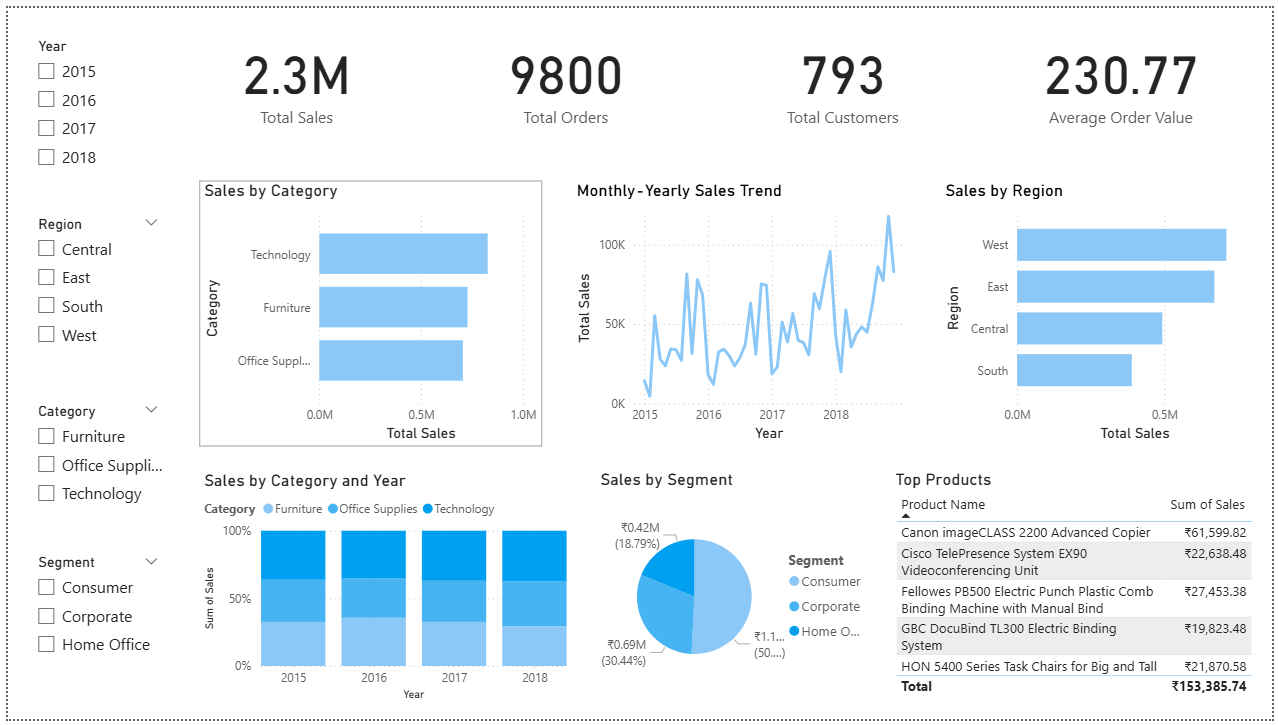

What the dashboard file says about the page in this screenshot:
{"tool":"powerbi","page":{"name":"Sales Analysis","canvas":[1280,720],"ordinal":0},"visuals":[{"type":"card","fields":{"Values":["Train.Total Sales"]},"box":[164.6,0,255.7,144.3],"z":0},{"type":"card","fields":{"Values":["Train.Total Oders"]},"box":[436.7,0,257,144.3],"z":1},{"type":"card","fields":{"Values":["Train.Total Customers"]},"box":[710.1,0,270.9,144.3],"z":2},{"type":"card","fields":{"Values":["Train.AOV"]},"box":[998.7,0,257,144.3],"z":3},{"type":"barChart","title":"Sales by Category","fields":{"Category":["Train.Category"],"Y":["Train.Total Sales"]},"box":[193.7,174.7,346.8,269.6],"z":4},{"type":"barChart","title":"Sales by Region","fields":{"Category":["Train.Region"],"Y":["Train.Total Sales"]},"box":[944.3,174.7,335.4,269.6],"z":5},{"type":"lineChart","title":"Monthly-Yearly Sales Trend","fields":{"Y":["Train.Total Sales"],"Category":["Train.Order Date.Variation.Date Hierarchy.Year","Train.Order Date.Variation.Date Hierarchy.Month"]},"box":[570.9,174.7,344.3,269.6],"z":6},{"type":"slicer","fields":{"Values":["Train.Region"]},"box":[17.5,205,146.2,155],"z":7},{"type":"slicer","fields":{"Values":["Train.Category"]},"box":[17.5,395,146.2,120],"z":8},{"type":"slicer","fields":{"Values":["Train.Segment"]},"box":[17.5,547.5,146.2,126.2],"z":9},{"type":"tableEx","title":"Top Products","fields":{"Values":["Train.Product Name","Sum(Train.Sales)"]},"box":[893.7,467.1,386.1,239.2],"z":11},{"type":"slicer","fields":{"Values":["Train.Order Date.Variation.Date Hierarchy.Year"]},"box":[17.5,25,146.2,150],"z":12},{"type":"hundredPercentStackedColumnChart","title":"Sales by Category and Year","fields":{"Category":["Train.Order Date.Variation.Date Hierarchy.Year"],"Y":["Sum(Train.Sales)"],"Series":["Train.Category"]},"box":[193.7,468.4,377.2,238],"z":13},{"type":"pieChart","title":"Sales by Segment","fields":{"Y":["Sum(Train.Sales)"],"Category":["Train.Segment"]},"box":[594.9,467.1,283.5,239.2],"z":14}]}

Visuals, with their boxes in screenshot pixels (x1, y1, x2, y2), scaled from the page's 1280x720 canvas onto the 1278x725 screenshot:
card - Train.Total Sales: box=[164, 0, 420, 145]
card - Train.Total Oders: box=[436, 0, 693, 145]
card - Train.Total Customers: box=[709, 0, 979, 145]
card - Train.AOV: box=[997, 0, 1254, 145]
"Sales by Category" barChart: box=[193, 176, 540, 447]
"Sales by Region" barChart: box=[943, 176, 1277, 447]
"Monthly-Yearly Sales Trend" lineChart: box=[570, 176, 914, 447]
slicer - Train.Region: box=[17, 206, 163, 362]
slicer - Train.Category: box=[17, 398, 163, 519]
slicer - Train.Segment: box=[17, 551, 163, 678]
"Top Products" tableEx: box=[892, 470, 1277, 711]
slicer - Train.Order Date.Variation.Date Hierarchy.Year: box=[17, 25, 163, 176]
"Sales by Category and Year" hundredPercentStackedColumnChart: box=[193, 472, 570, 711]
"Sales by Segment" pieChart: box=[594, 470, 877, 711]
